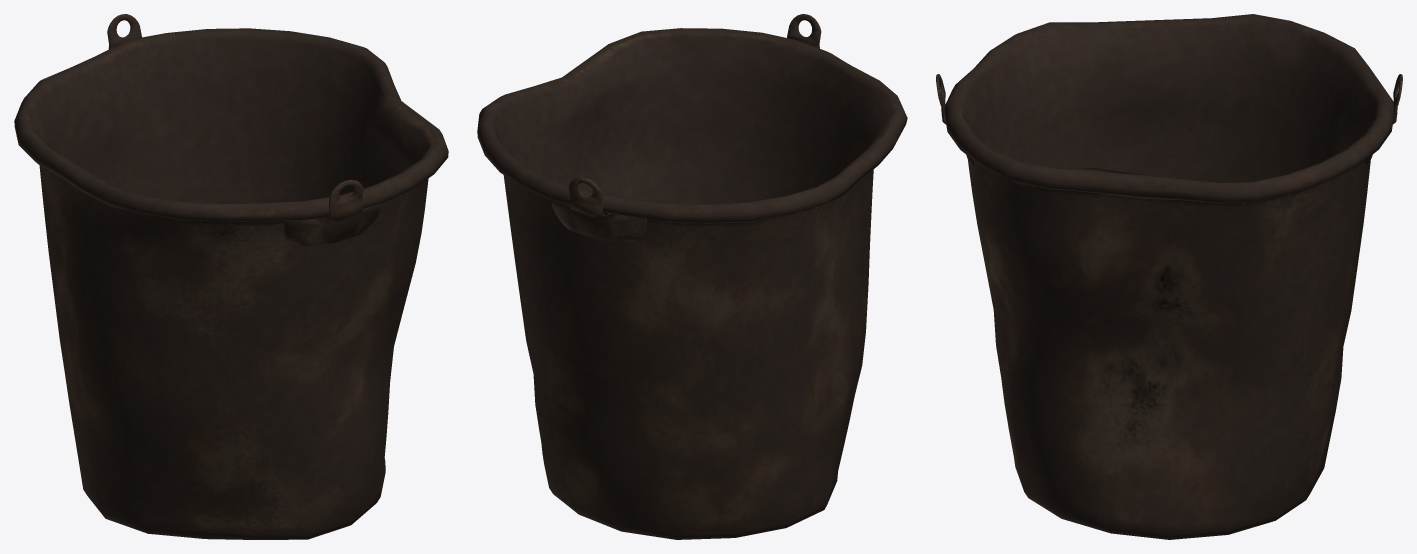
The model's file is IronBucket.fbx.
The picture shows the model from 3 angles, left to right: view 1: azimuth 30°, elevation 25°; view 2: azimuth 150°, elevation 25°; view 3: azimuth 270°, elevation 25°; orthographic projection. The views are drawn at different scales.
Visible parts, largest first — view 1: IronBucket; view 2: IronBucket; view 3: IronBucket.
Part boxes in pixels (bbox=[...]): IronBucket: bbox=[14, 14, 448, 539]; IronBucket: bbox=[477, 14, 907, 539]; IronBucket: bbox=[936, 14, 1402, 539].
Size of the model in its own units: 0.1657 by 0.177 by 0.1861.
1 material, 1 textured.
